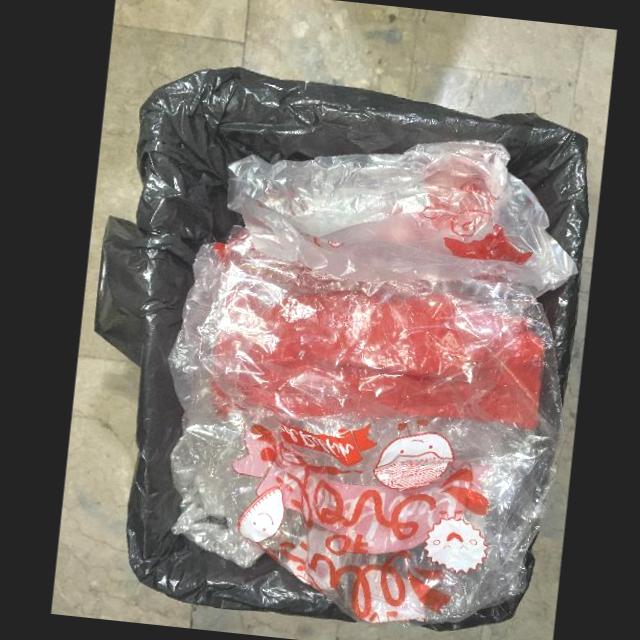tui_ni_long: (169, 226, 560, 623), (225, 138, 577, 314)
